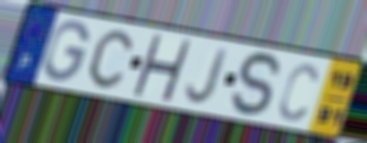C: (87, 28, 135, 91), (277, 61, 320, 123)
G: (41, 19, 92, 84)
H: (130, 32, 194, 104)
J: (184, 46, 232, 105)
S: (228, 50, 283, 119)
